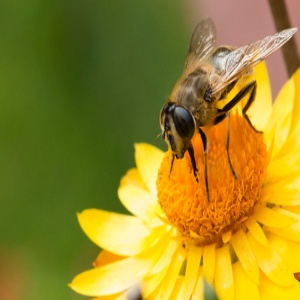bee: (158, 16, 297, 199)
